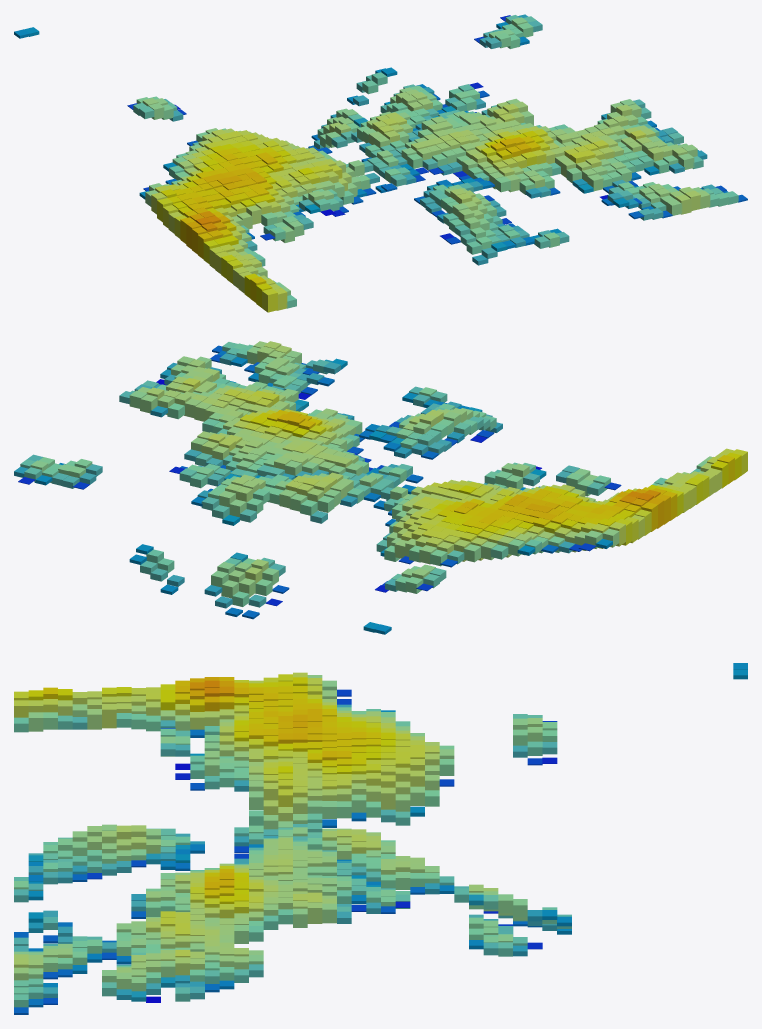
File: population.glb
3 renders of one model, top to bottom at view 1: azimuth 30°, elevation 25°; view 2: azimuth 150°, elevation 25°; view 3: azimuth 270°, elevation 25°, orthographic. The views are drawn at different scales.
Parts seen in each view (by area): view 1: population; view 2: population; view 3: population.
Boxes of the visible parts, <box> form: population: <box>14,14,747,312</box>; population: <box>14,341,747,634</box>; population: <box>14,663,747,1014</box>.
Bounding box in the file's own units: 4731 × 972 × 4974.
